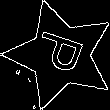P_E: (29, 30, 92, 81)
